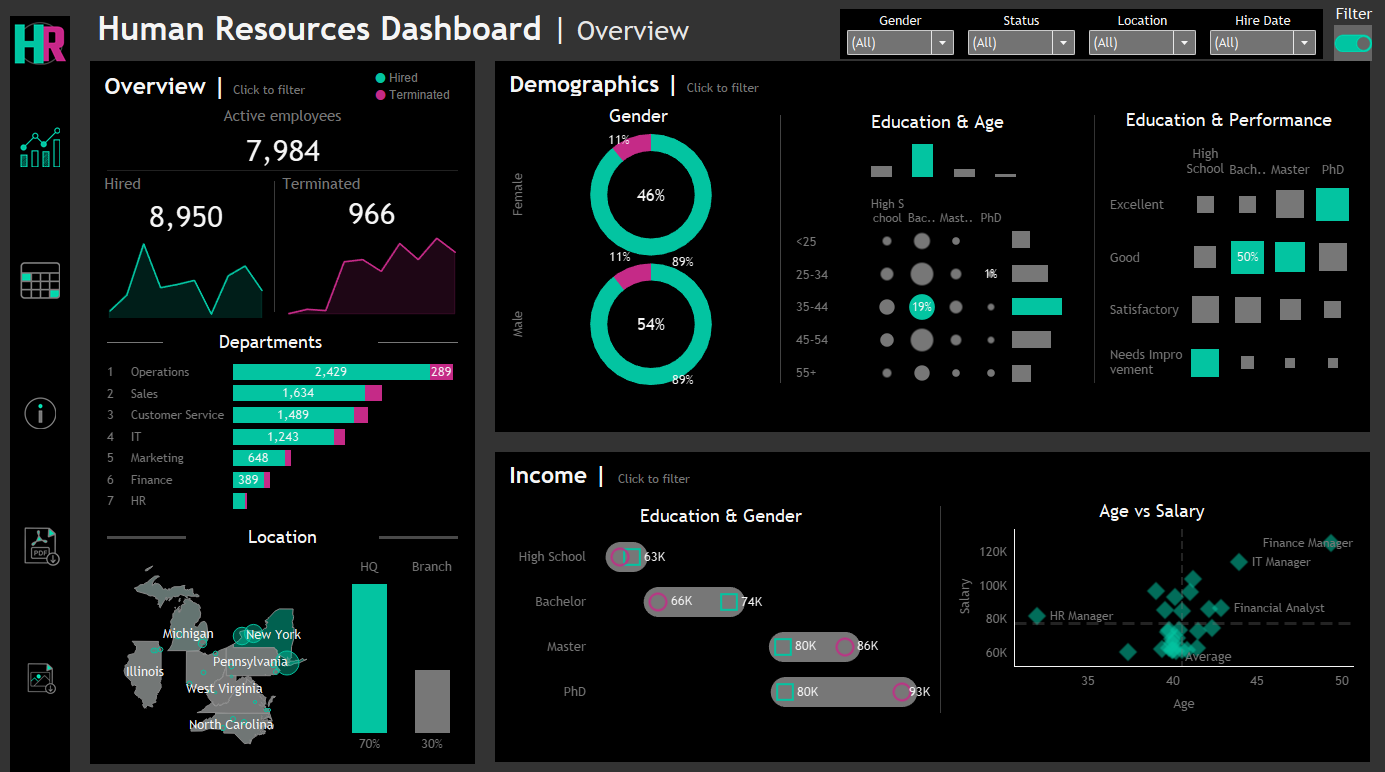

The dashboard page shown, as its layout file describes it:
{"tool":"tableau","page":{"name":"HR Dashboard","canvas":[1400,800],"ordinal":0},"visuals":[{"type":"text","box":[100,0,845,65]},{"type":"blank","box":[945,0,435,65]},{"type":"text","box":[1327,3,74,30]},{"type":"filter","title":"Gender","param":"[federated.120klni0kbhnw10zrnsrj18dld6h].[none:Gender:nk]","box":[850,13,121,50]},{"type":"filter","title":"Departments","param":"[federated.120klni0kbhnw10zrnsrj18dld6h].[none:Calculation_1153484467662630924:n","box":[971,13,121,50]},{"type":"filter","title":"Departments","param":"[federated.120klni0kbhnw10zrnsrj18dld6h].[none:Calculation_1153484467612041222:n","box":[1092,13,121,50]},{"type":"filter","title":"Departments","param":"[federated.120klni0kbhnw10zrnsrj18dld6h].[yr:Hiredate:ok]","box":[1213,13,120,50]},{"type":"image","param":"Image/Logo.png","box":[20,20,60,55]},{"type":"dashboard-object","box":[1344,29,38,36]},{"type":"text","box":[382,68,102,48]},{"type":"text","box":[107,72,371,35]},{"type":"text","box":[512,72,861,32]},{"type":"dashboard-object","box":[30,85,40,133]},{"type":"text","box":[107,107,371,26]},{"type":"text","box":[512,109,278,21]},{"type":"blank","box":[790,109,1,288]},{"type":"text","box":[796,109,303,33]},{"type":"blank","box":[1104,109,1,288]},{"type":"text","box":[1110,109,258,29]},{"type":"worksheet","title":"Gender","mark":"Pie","rows":["Gender"],"cols":["Calculation_1153484467616296968","Calculation_1153484467616296968"],"box":[512,130,278,267]},{"type":"worksheet","title":"BAN Active","mark":"Text","box":[107,133,371,41]},{"type":"worksheet","title":"Education vs Performance","mark":"Square","rows":["Performance Rating"],"cols":["Education Level"],"box":[1110,138,258,259]},{"type":"worksheet","title":"Education Levels","mark":"Bar","rows":["Calculation_1153484467600011264"],"cols":["Education Level"],"box":[796,142,303,43]},{"type":"blank","box":[107,174,371,1]},{"type":"text","box":[107,175,177,26]},{"type":"blank","box":[284,175,1,151]},{"type":"text","box":[285,175,192.9,26]},{"type":"worksheet","title":"Age vs Education","mark":"Circle","rows":["Calculation_1153484467620855819"],"cols":["Education Level"],"box":[796,185,226,212]},{"type":"worksheet","title":"Age Groups","mark":"Bar","rows":["Calculation_1153484467620855819"],"cols":["Calculation_1153484467600011264"],"box":[1022,185,53,212]},{"type":"worksheet","title":"BAN Hired","mark":"Text","box":[107,201,177,38]},{"type":"worksheet","title":"BAN Terminated","mark":"Text","box":[285,201,192.9,32]},{"type":"dashboard-object","box":[30,218,40,133]},{"type":"worksheet","title":"Terminated by Year ","mark":"Line","rows":["Calculation_1153484467600117761","Calculation_1153484467600117761"],"cols":["Termdate"],"box":[285,233,192.9,93]},{"type":"worksheet","title":"Hired by Year","mark":"Line","rows":["Calculation_1153484467600011264","Calculation_1153484467600011264"],"cols":["Hiredate"],"box":[107,239,177,87]},{"type":"text","box":[80,322,1321,216]},{"type":"blank","box":[117,331,56,30]},{"type":"text","box":[173,331,215,30]},{"type":"blank","box":[388,331,80,30]},{"type":"dashboard-object","box":[30,351,40,133]},{"type":"worksheet","title":"Departments","mark":"Bar","rows":["Calculation_1153484467606962180","Department"],"cols":["Calculation_1153484467600011264"],"box":[107,361,371,159]},{"type":"blank","box":[512,397,861,32]},{"type":"text","box":[512,463,861,32]},{"type":"dashboard-object","box":[30,484,40,133]},{"type":"blank","box":[950,500,1,227]},{"type":"text","box":[956,500,412,29]},{"type":"text","box":[517,505,428,29]},{"type":"blank","box":[117,525,79,32]},{"type":"text","box":[196,525,193,32]},{"type":"blank","box":[389,525,79,32]},{"type":"worksheet","title":"Age vs Salary","mark":"Shape","rows":["Salary"],"cols":["Calculation_1153484467618852874"],"box":[956,529,412,198]},{"type":"worksheet","title":"Gender vs Education ","mark":"Square","rows":["Education Level"],"cols":["Salary","Salary"],"box":[517,534,428,188]},{"type":"blank","box":[80,538,1321,115.5]},{"type":"worksheet","title":"Map States","mark":"Automatic","box":[107,557,237.1,204]},{"type":"worksheet","title":"Location","mark":"Bar","rows":["Calculation_1153484467600011264"],"cols":["Calculation_1153484467612041222","Calculation_1153484467618332681"],"box":[344.1,557,133.9,204]},{"type":"dashboard-object","box":[30,617,40,132]},{"type":"blank","box":[80,653.5,1321,115.5]},{"type":"blank","box":[512,727,861,32]}]}

Visuals, with their boxes in screenshot pixels (x1, y1, x2, y2), scaled from the page's 1400x800 canvas onto the 1385x772 screenshot:
text: (left=99, top=0, right=935, bottom=63)
blank: (left=935, top=0, right=1365, bottom=63)
text: (left=1313, top=3, right=1384, bottom=32)
"Gender" filter: (left=841, top=13, right=961, bottom=61)
"Departments" filter: (left=961, top=13, right=1080, bottom=61)
"Departments" filter: (left=1080, top=13, right=1200, bottom=61)
"Departments" filter: (left=1200, top=13, right=1319, bottom=61)
image: (left=20, top=19, right=79, bottom=72)
dashboard-object: (left=1330, top=28, right=1367, bottom=63)
text: (left=378, top=66, right=479, bottom=112)
text: (left=106, top=69, right=473, bottom=103)
text: (left=507, top=69, right=1358, bottom=100)
dashboard-object: (left=30, top=82, right=69, bottom=210)
text: (left=106, top=103, right=473, bottom=128)
text: (left=507, top=105, right=782, bottom=125)
blank: (left=782, top=105, right=783, bottom=383)
text: (left=787, top=105, right=1087, bottom=137)
blank: (left=1092, top=105, right=1093, bottom=383)
text: (left=1098, top=105, right=1353, bottom=133)
"Gender" worksheet (Pie marks): (left=507, top=125, right=782, bottom=383)
"BAN Active" worksheet (Text marks): (left=106, top=128, right=473, bottom=168)
"Education vs Performance" worksheet (Square marks): (left=1098, top=133, right=1353, bottom=383)
"Education Levels" worksheet (Bar marks): (left=787, top=137, right=1087, bottom=179)
blank: (left=106, top=168, right=473, bottom=169)
text: (left=106, top=169, right=281, bottom=194)
blank: (left=281, top=169, right=282, bottom=315)
text: (left=282, top=169, right=473, bottom=194)
"Age vs Education" worksheet (Circle marks): (left=787, top=179, right=1011, bottom=383)
"Age Groups" worksheet (Bar marks): (left=1011, top=179, right=1063, bottom=383)
"BAN Hired" worksheet (Text marks): (left=106, top=194, right=281, bottom=231)
"BAN Terminated" worksheet (Text marks): (left=282, top=194, right=473, bottom=225)
dashboard-object: (left=30, top=210, right=69, bottom=339)
"Terminated by Year " worksheet (Line marks): (left=282, top=225, right=473, bottom=315)
"Hired by Year" worksheet (Line marks): (left=106, top=231, right=281, bottom=315)
text: (left=79, top=311, right=1384, bottom=519)
blank: (left=116, top=319, right=171, bottom=348)
text: (left=171, top=319, right=384, bottom=348)
blank: (left=384, top=319, right=463, bottom=348)
dashboard-object: (left=30, top=339, right=69, bottom=467)
"Departments" worksheet (Bar marks): (left=106, top=348, right=473, bottom=502)
blank: (left=507, top=383, right=1358, bottom=414)
text: (left=507, top=447, right=1358, bottom=478)
dashboard-object: (left=30, top=467, right=69, bottom=595)
blank: (left=940, top=482, right=941, bottom=702)
text: (left=946, top=482, right=1353, bottom=510)
text: (left=511, top=487, right=935, bottom=515)
blank: (left=116, top=507, right=194, bottom=538)
text: (left=194, top=507, right=385, bottom=538)
blank: (left=385, top=507, right=463, bottom=538)
"Age vs Salary" worksheet (Shape marks): (left=946, top=510, right=1353, bottom=702)
"Gender vs Education " worksheet (Square marks): (left=511, top=515, right=935, bottom=697)
blank: (left=79, top=519, right=1384, bottom=631)
"Map States" worksheet: (left=106, top=538, right=340, bottom=734)
"Location" worksheet (Bar marks): (left=340, top=538, right=473, bottom=734)
dashboard-object: (left=30, top=595, right=69, bottom=723)
blank: (left=79, top=631, right=1384, bottom=742)
blank: (left=507, top=702, right=1358, bottom=732)
